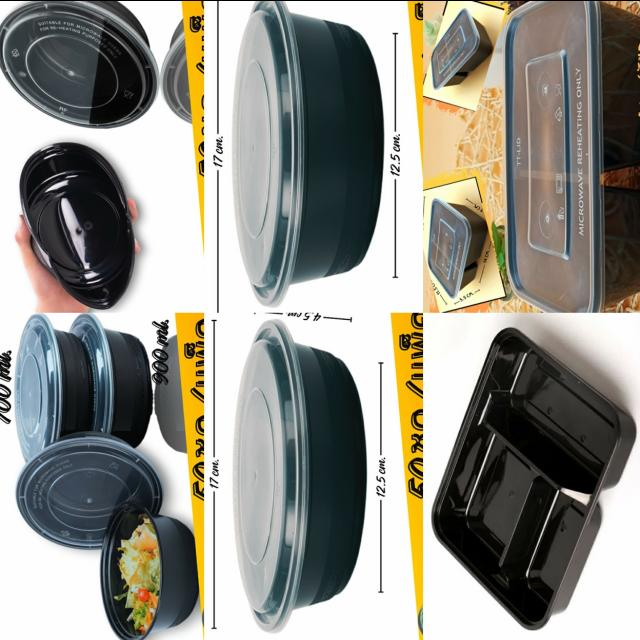plastik: (432, 327, 635, 629), (231, 0, 383, 306), (505, 0, 640, 312), (233, 319, 366, 632), (0, 0, 158, 128), (20, 142, 134, 309), (16, 431, 162, 548), (101, 500, 197, 640), (15, 313, 93, 459), (70, 313, 152, 446), (428, 197, 487, 297), (432, 7, 491, 89)
